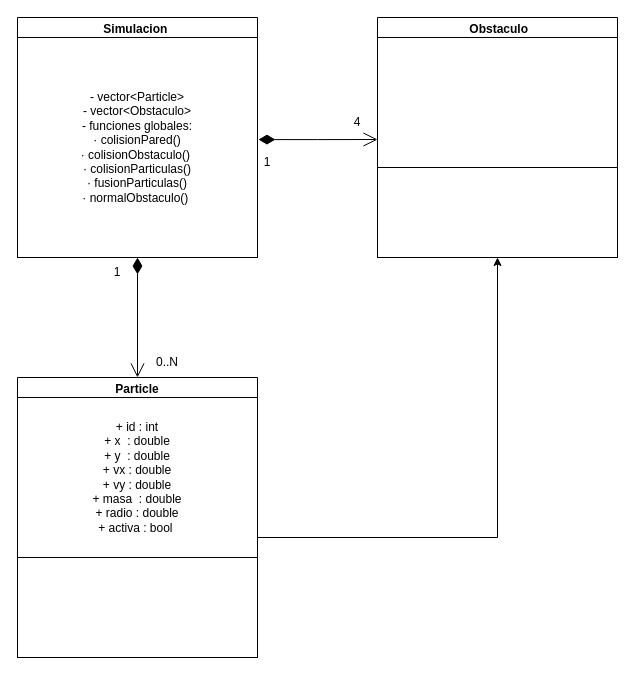
This 635x675 diagram has some shape labels left out. Each missing label, with the centre of its shape:
"+ actualizar(dt:double) : void + velocidadMagnitud() : double" belongs at point 137,607.
"+ colision(px,py,radio:double) : bool" belongs at point 497,212.
"+ id : int + x : double + y : double + lado : double" belongs at point 497,107.
